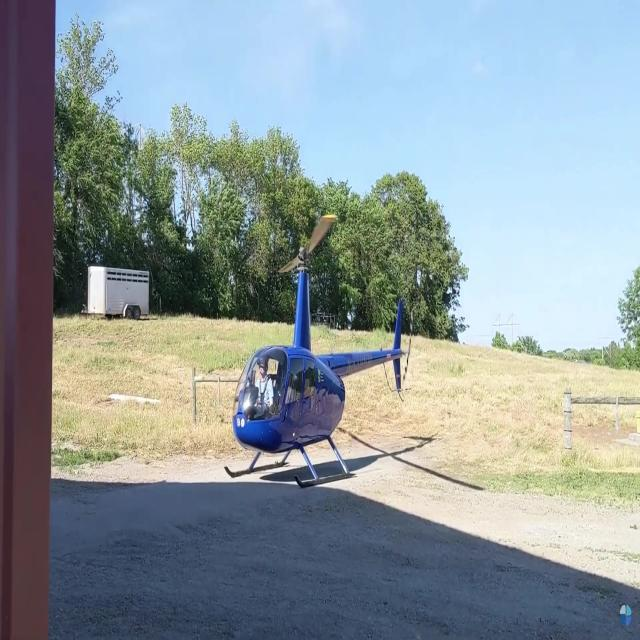CIV_HELO: (222, 246, 404, 490)
